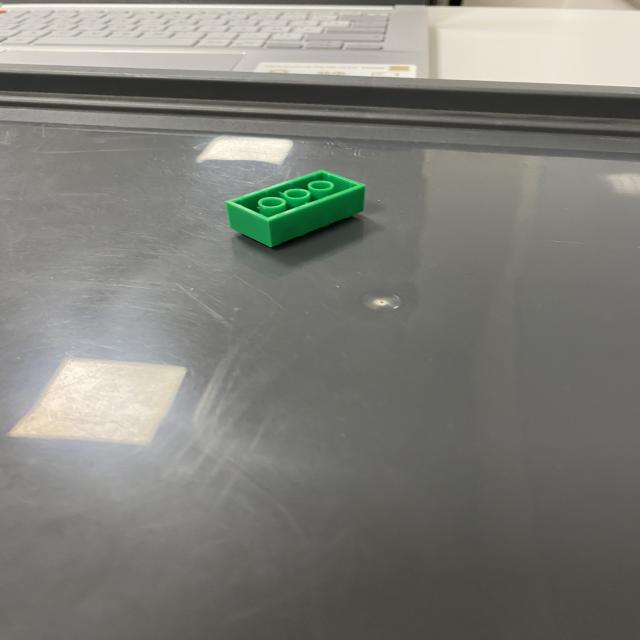C4x2x1: (224, 169, 367, 249)
